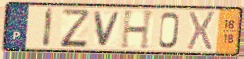0: (158, 11, 182, 50)
H: (119, 9, 157, 51)
I: (41, 6, 56, 49)
V: (92, 10, 124, 48)
X: (185, 10, 218, 53)
Z: (60, 7, 90, 49)
